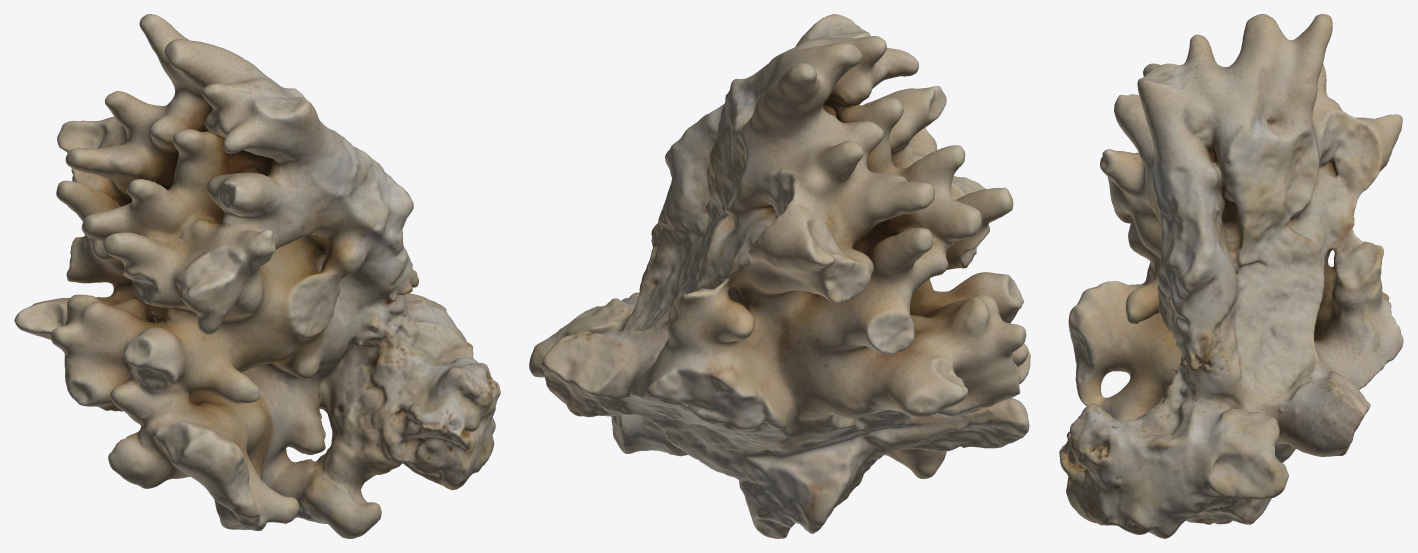
Rendered from smithsonian-porites-andrewsi.glb.
The picture shows the model from 3 angles, left to right: view 1: azimuth 30°, elevation 25°; view 2: azimuth 150°, elevation 25°; view 3: azimuth 270°, elevation 25°; orthographic projection. The views are drawn at different scales.
Parts seen in each view (by area): view 1: Porites_andrewsi-unwrapped-webmulti; view 2: Porites_andrewsi-unwrapped-webmulti; view 3: Porites_andrewsi-unwrapped-webmulti.
Part boxes in pixels (left/top/right/bottom): Porites_andrewsi-unwrapped-webmulti: left=14, top=14, right=500, bottom=538; Porites_andrewsi-unwrapped-webmulti: left=529, top=14, right=1030, bottom=538; Porites_andrewsi-unwrapped-webmulti: left=1059, top=14, right=1403, bottom=538.
Bounding box in the file's own units: 0.1091 × 0.1197 × 0.0794.
1 material, 1 textured.
